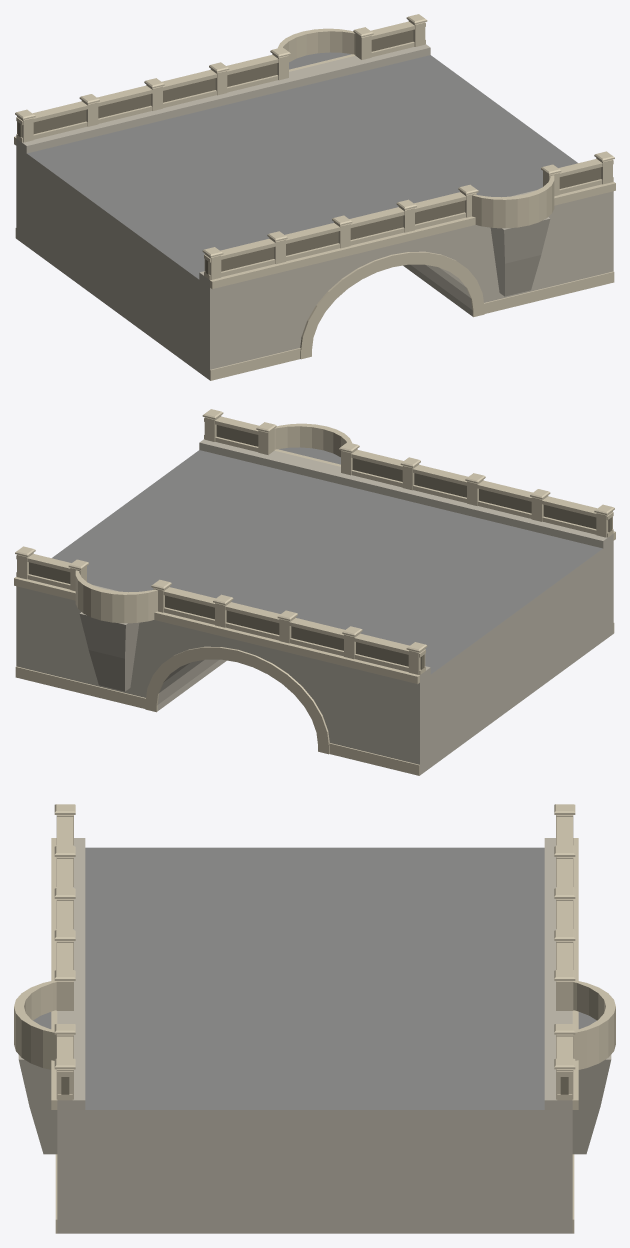
Rendered from nyc-balcony-bridge.glb.
3 views of the same model, one above another, from view 1: azimuth 30°, elevation 25°; view 2: azimuth 150°, elevation 25°; view 3: azimuth 270°, elevation 25° (orthographic). The views are drawn at different scales.
Parts seen in each view (by area): view 1: Balcony Bridge; view 2: Balcony Bridge; view 3: Balcony Bridge.
Part boxes in pixels (bbox=[...]): Balcony Bridge: bbox=[14, 14, 615, 380]; Balcony Bridge: bbox=[14, 409, 615, 775]; Balcony Bridge: bbox=[14, 804, 615, 1233].
Bounding box in the file's own units: 20.02 × 5.97 × 19.4.
